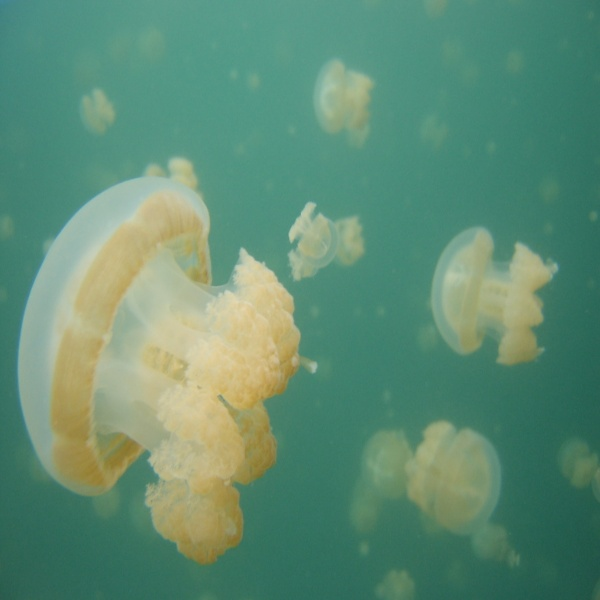Jellyfish: (15, 173, 318, 566), (424, 220, 558, 372), (405, 415, 503, 537), (306, 55, 372, 140), (285, 199, 339, 269), (78, 85, 117, 136)
